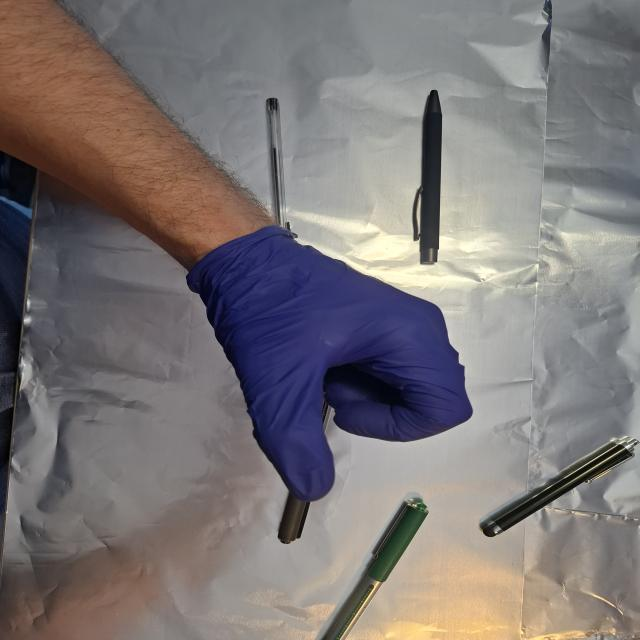glove_on: (185, 224, 480, 505)
